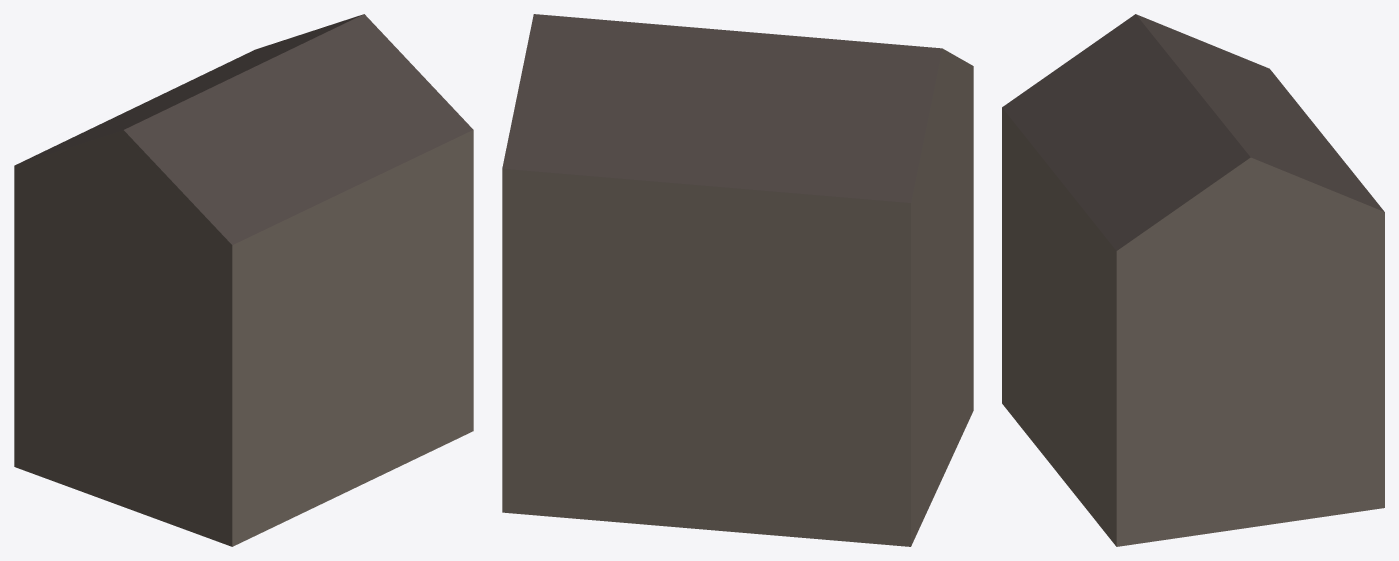
The picture shows the model from 3 angles, left to right: view 1: azimuth 30°, elevation 25°; view 2: azimuth 150°, elevation 25°; view 3: azimuth 270°, elevation 25°; orthographic projection. The views are drawn at different scales.
Visible parts, largest first — view 1: HP-w1198840868; view 2: HP-w1198840868; view 3: HP-w1198840868.
Boxes of the visible parts, x1,y1,x2,y2 form: HP-w1198840868: (14, 14, 473, 546); HP-w1198840868: (502, 14, 973, 546); HP-w1198840868: (1002, 14, 1384, 546).
Size of the model in its own units: 7.94 by 7.51 by 7.04.
